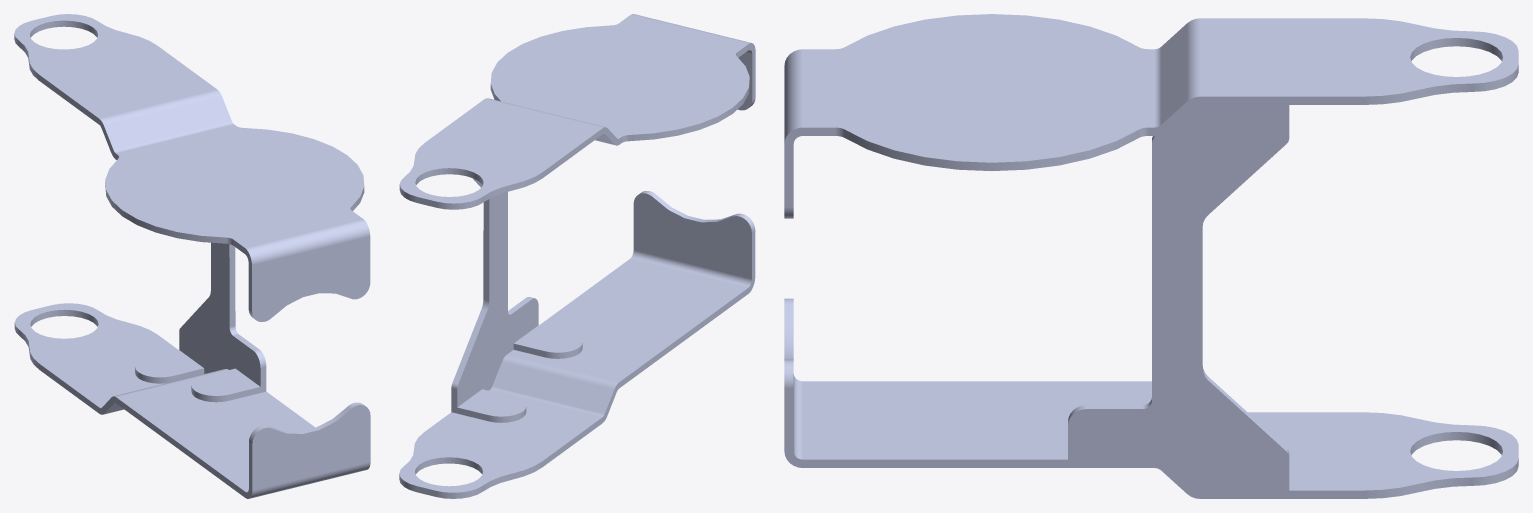
3 views of the same model, side by side, from view 1: azimuth 30°, elevation 25°; view 2: azimuth 150°, elevation 25°; view 3: azimuth 270°, elevation 25° (orthographic). The views are drawn at different scales.
Visible parts, largest first — view 1: Body1; view 2: Body1; view 3: Body1.
Boxes of the visible parts, x1,y1,x2,y2 form: Body1: [14, 14, 370, 498]; Body1: [399, 14, 755, 498]; Body1: [784, 14, 1518, 498].
Size of the model in its own units: 0.057 by 0.0716 by 0.1185.
